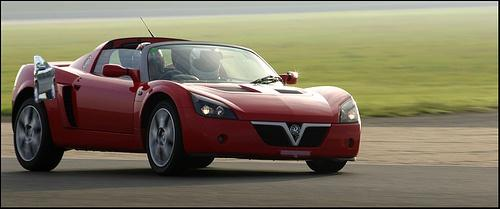tampered: (35, 56, 55, 103)
